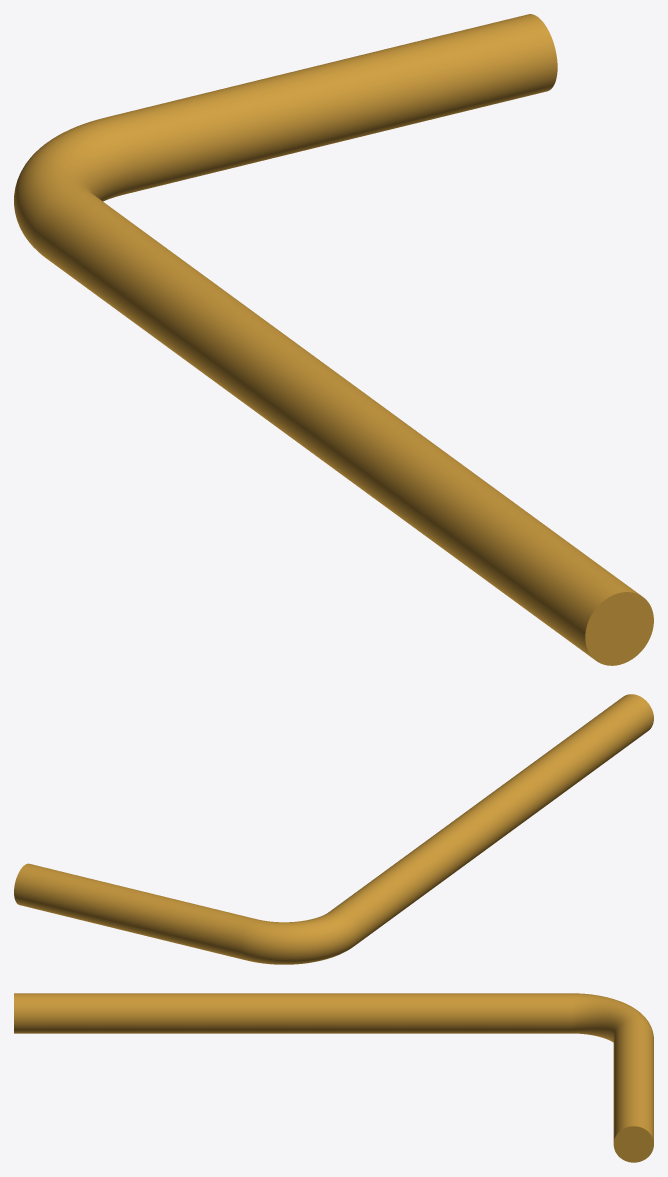
Rendered from WIRE20X10.obj.
3 views of the same model, one above another, from view 1: azimuth 30°, elevation 25°; view 2: azimuth 150°, elevation 25°; view 3: azimuth 270°, elevation 25° (orthographic). The views are drawn at different scales.
Parts seen in each view (by area): view 1: Solid1; view 2: Solid1; view 3: Solid1.
Part boxes in pixels (left/top/right/bottom): Solid1: left=14, top=14, right=653, bottom=665; Solid1: left=14, top=694, right=653, bottom=964; Solid1: left=14, top=993, right=653, bottom=1162.
Size of the model in its own units: 10.65 by 1.3 by 20.65.
